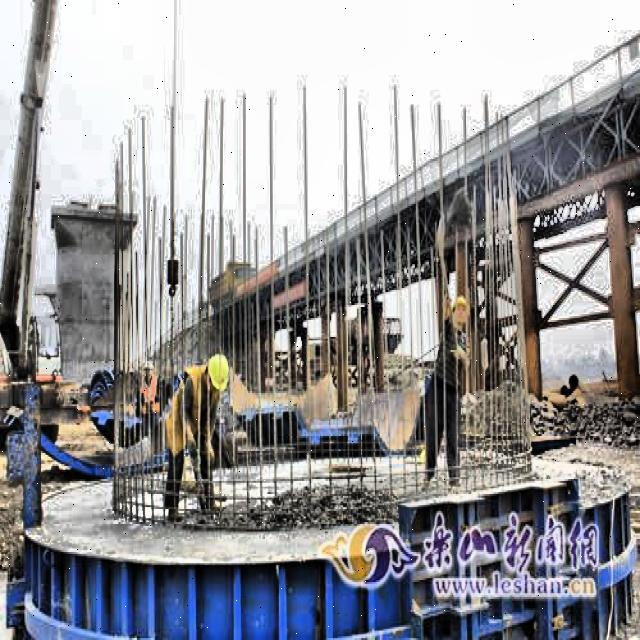helmet: (202, 346, 232, 398), (447, 286, 472, 330)
